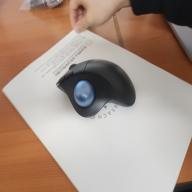Mouse: (55, 58, 138, 120)
